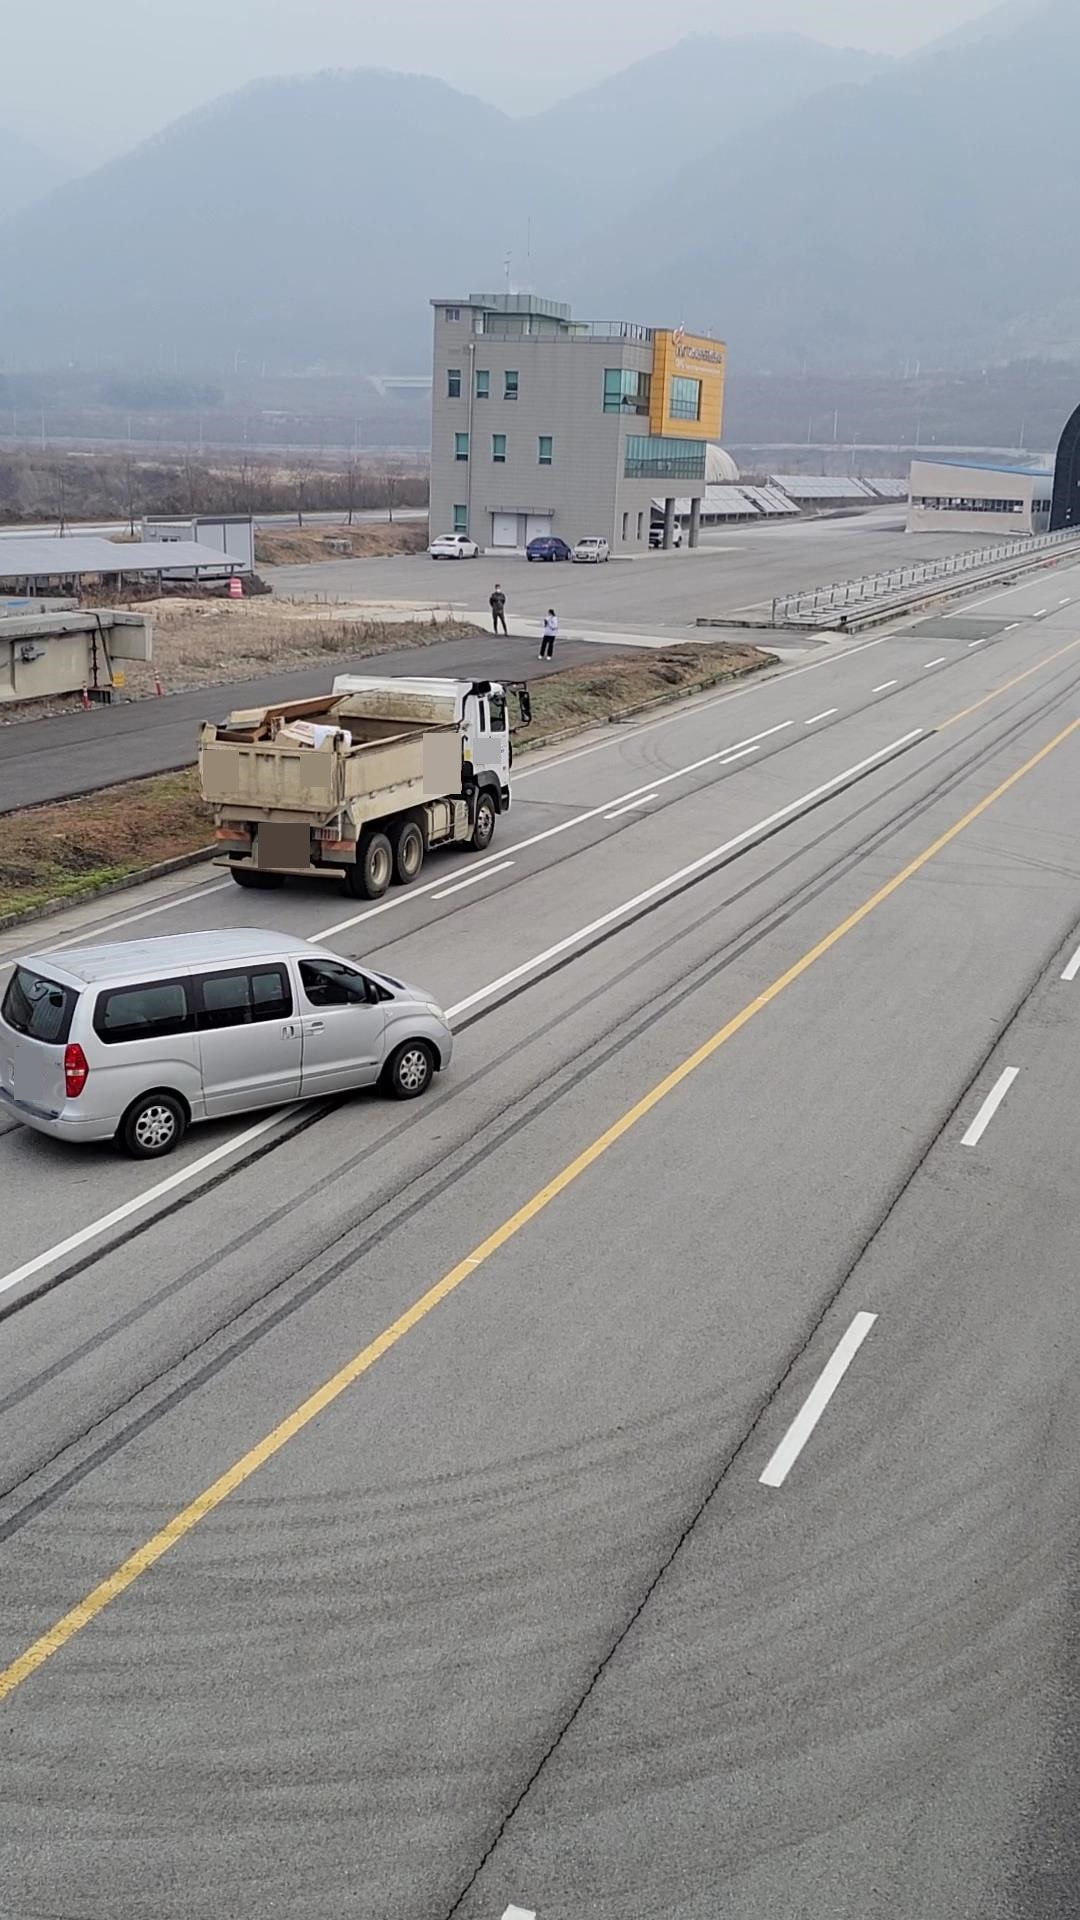불법차량: (198, 674, 533, 899)
